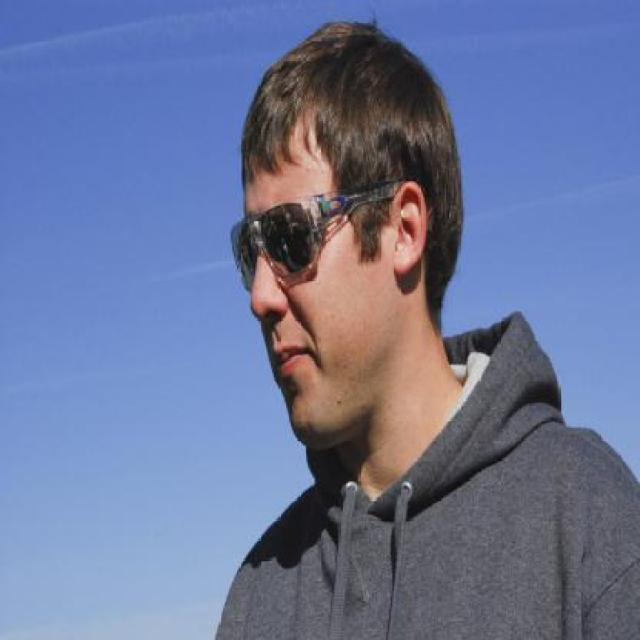face_nomask: (215, 200, 332, 392)
glasses: (232, 174, 410, 300)
head_nohelmet: (231, 16, 431, 142)
person: (154, 0, 640, 640)
